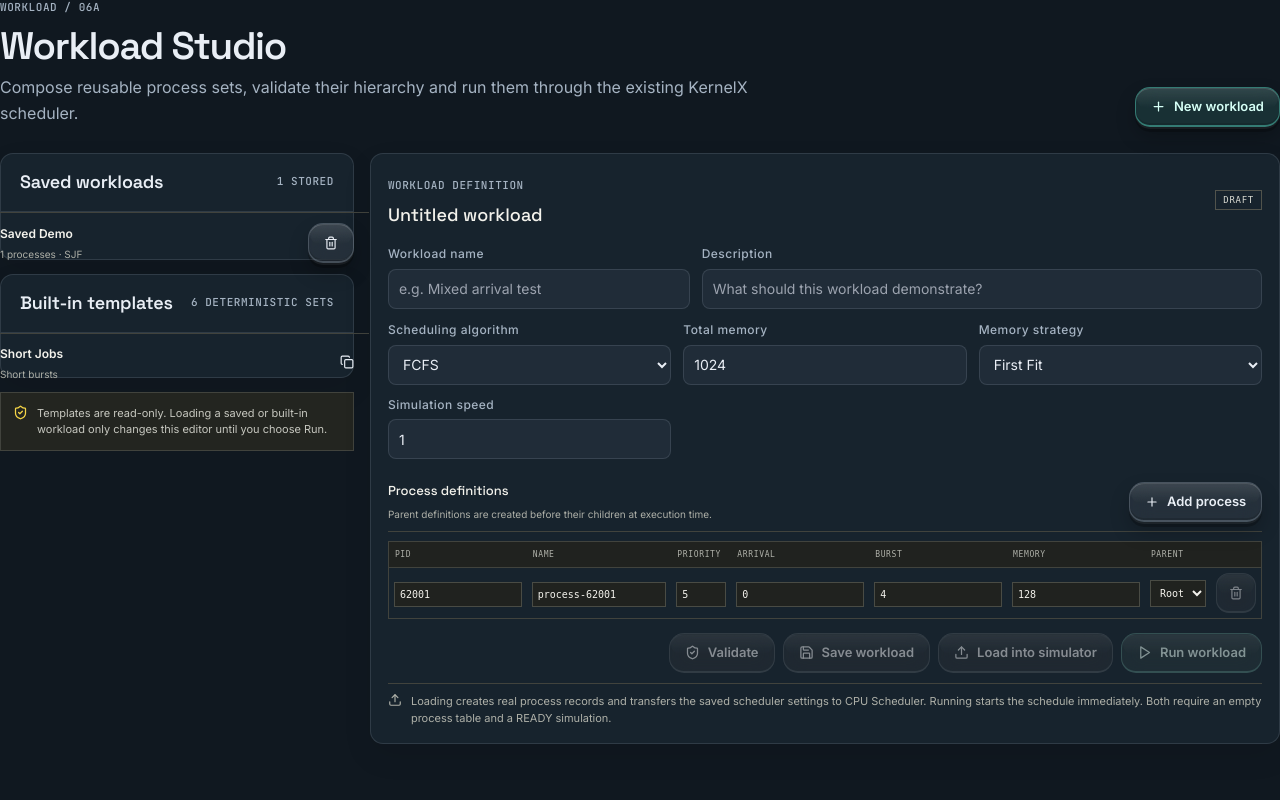
Test: Workload Studio › loads templates and edits process definitions in the editor
Expected: the text "Short Jobs" is shown, x1=0 y1=346 x2=63 y2=361
Click the button "Short Jobs Short bursts".
click(32, 353)  # box x1=0 y1=344 x2=332 y2=381
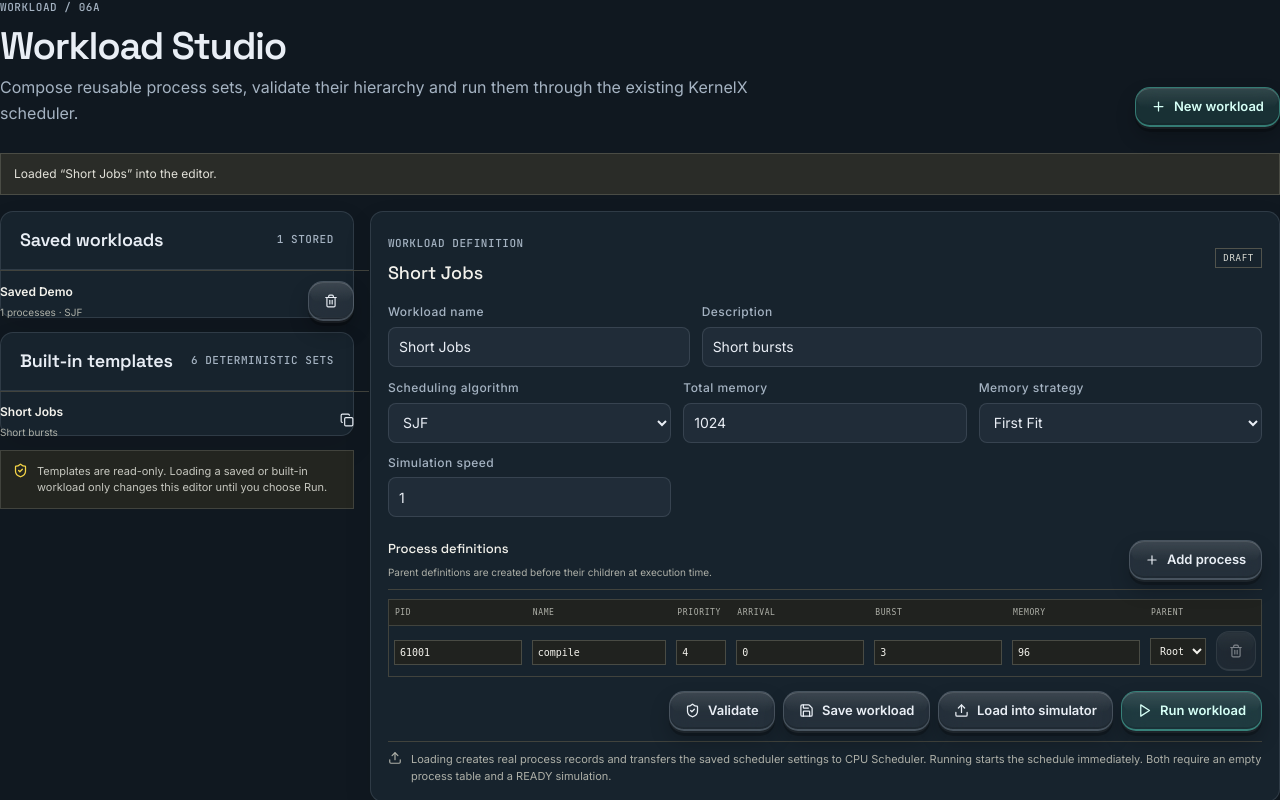
Expected: the field labelled "Workload name" holds "Short Jobs", x1=388 y1=327 x2=690 y2=367
Expected: the number field named "PID row 1" holds "61001", x1=394 y1=640 x2=522 y2=665
